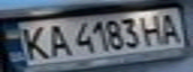1: (90, 18, 109, 52)
3: (118, 16, 142, 48)
4: (72, 19, 93, 54)
8: (106, 17, 127, 52)
A: (42, 21, 72, 59), (154, 11, 187, 44)
H: (136, 11, 169, 46)
K: (15, 24, 51, 61)
